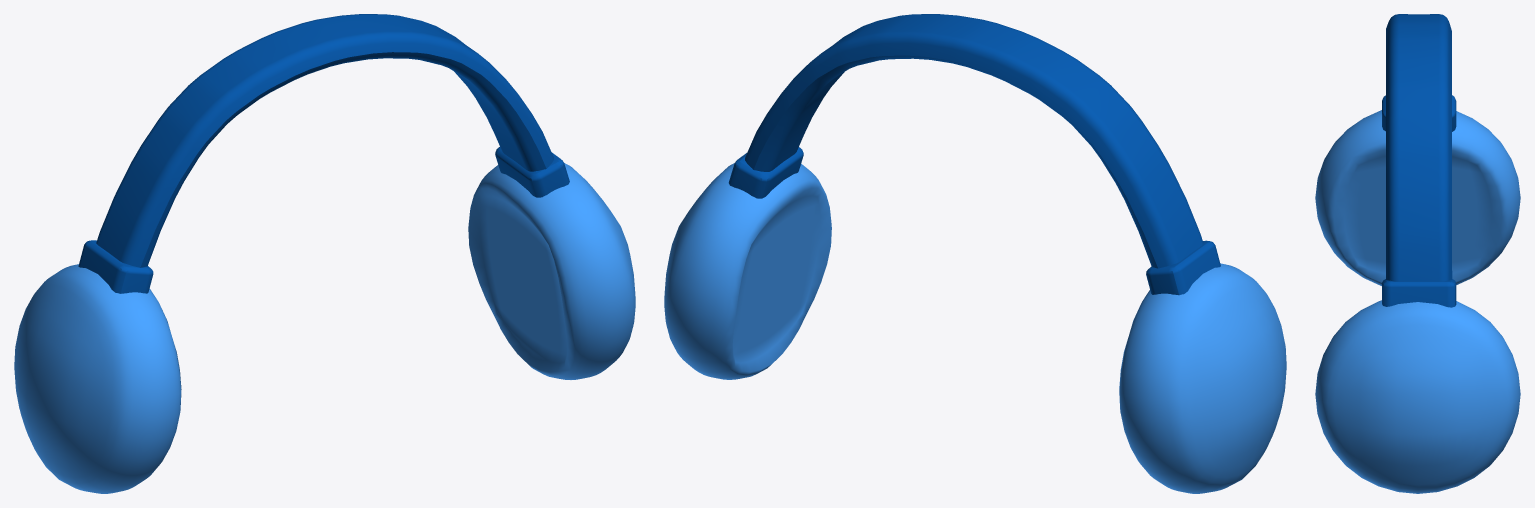
Rendered from headset.fbx.
3 renders of one model, left to right at view 1: azimuth 30°, elevation 25°; view 2: azimuth 150°, elevation 25°; view 3: azimuth 270°, elevation 25°, orthographic. The views are drawn at different scales.
Visible parts, largest first — view 1: pCube7; view 2: pCube7; view 3: pCube7.
Part boxes in pixels (x1,y1,x2,y2): pCube7: [14, 14, 635, 493]; pCube7: [664, 14, 1286, 493]; pCube7: [1315, 14, 1520, 493].
Bounding box in the file's own units: 58.68 × 38.47 × 20.39.
